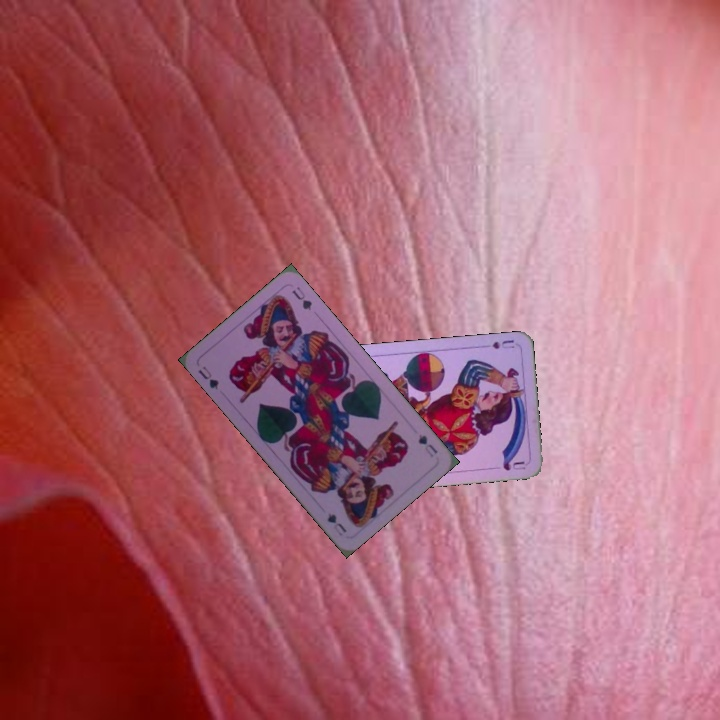GU: (194, 362, 221, 392), (414, 430, 440, 460)
SU: (488, 336, 517, 351)
